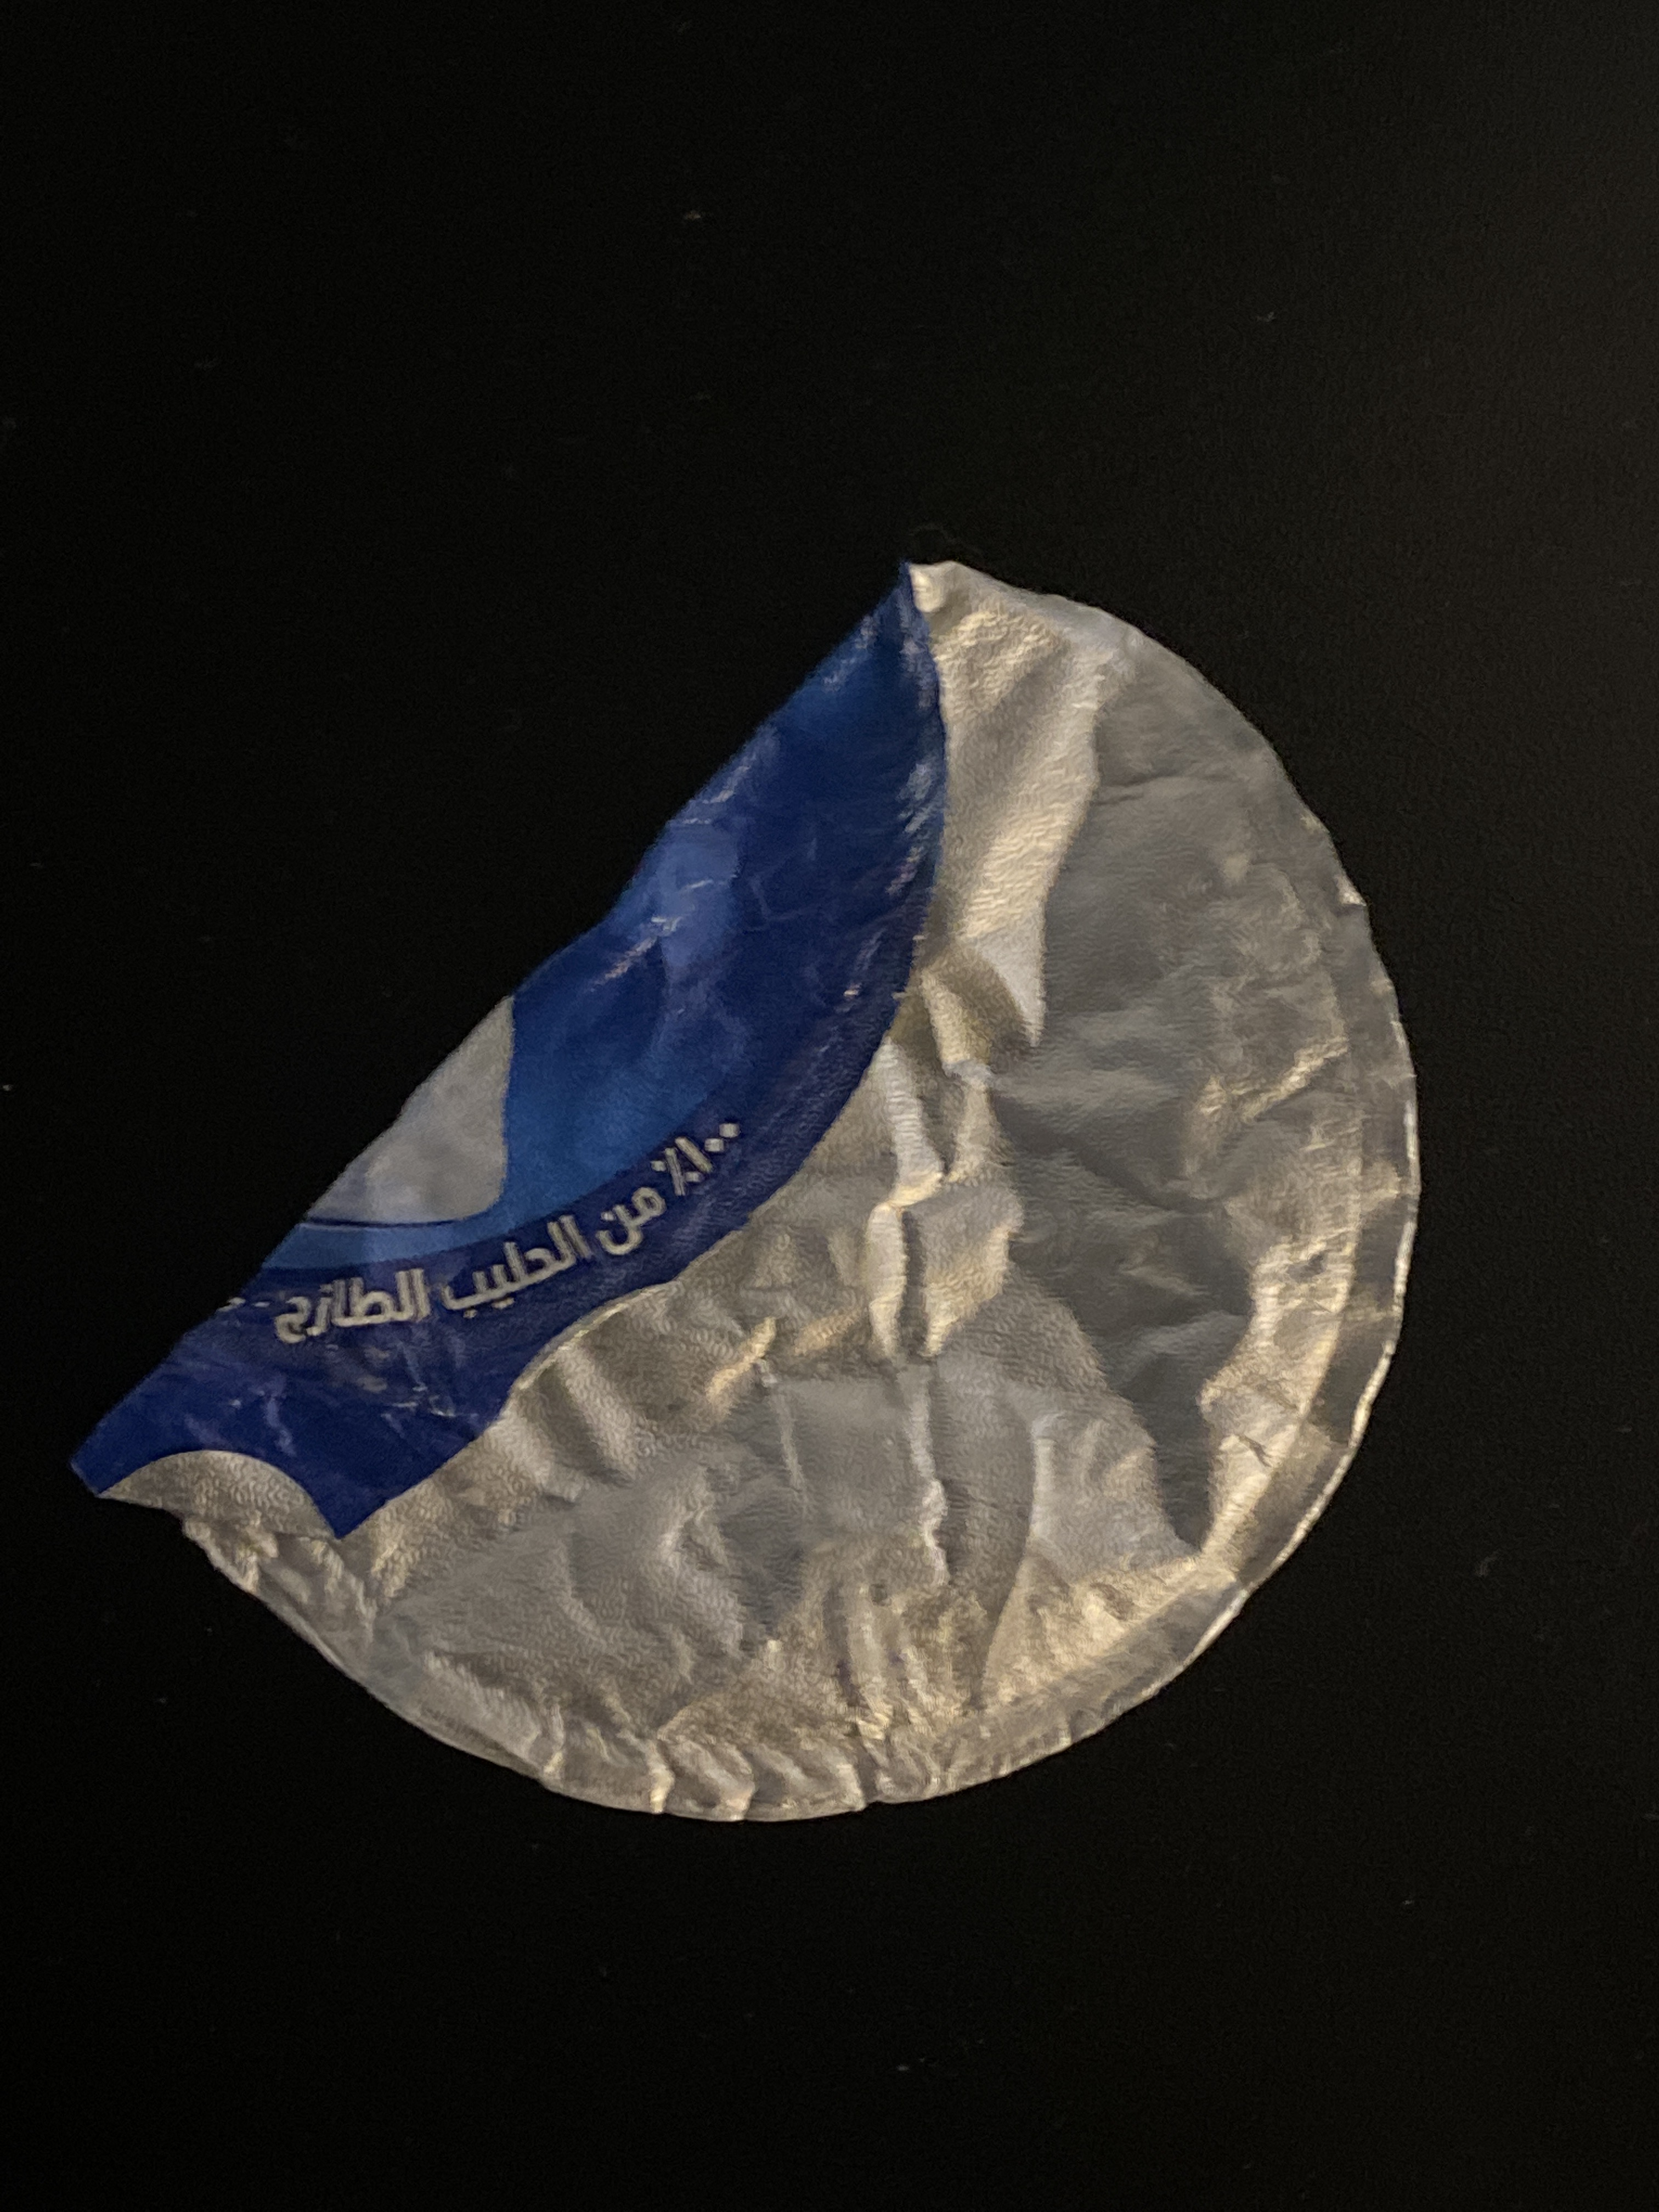metal: (78, 423, 1450, 1898)
